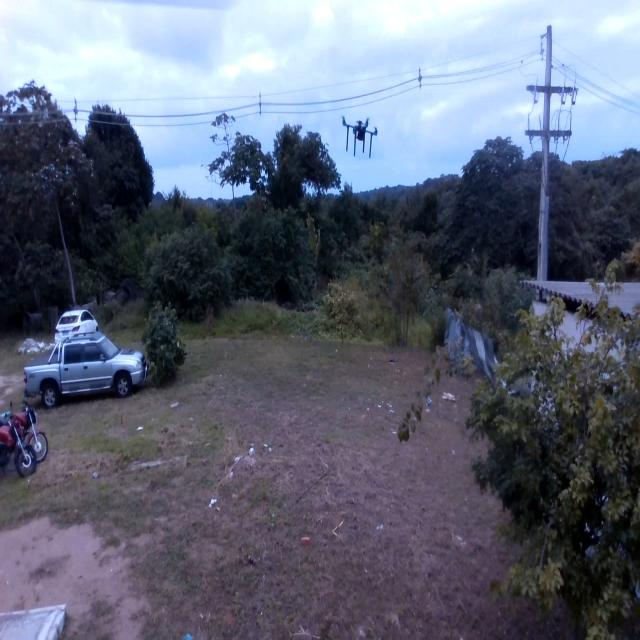-uav-: (337, 104, 381, 162)
